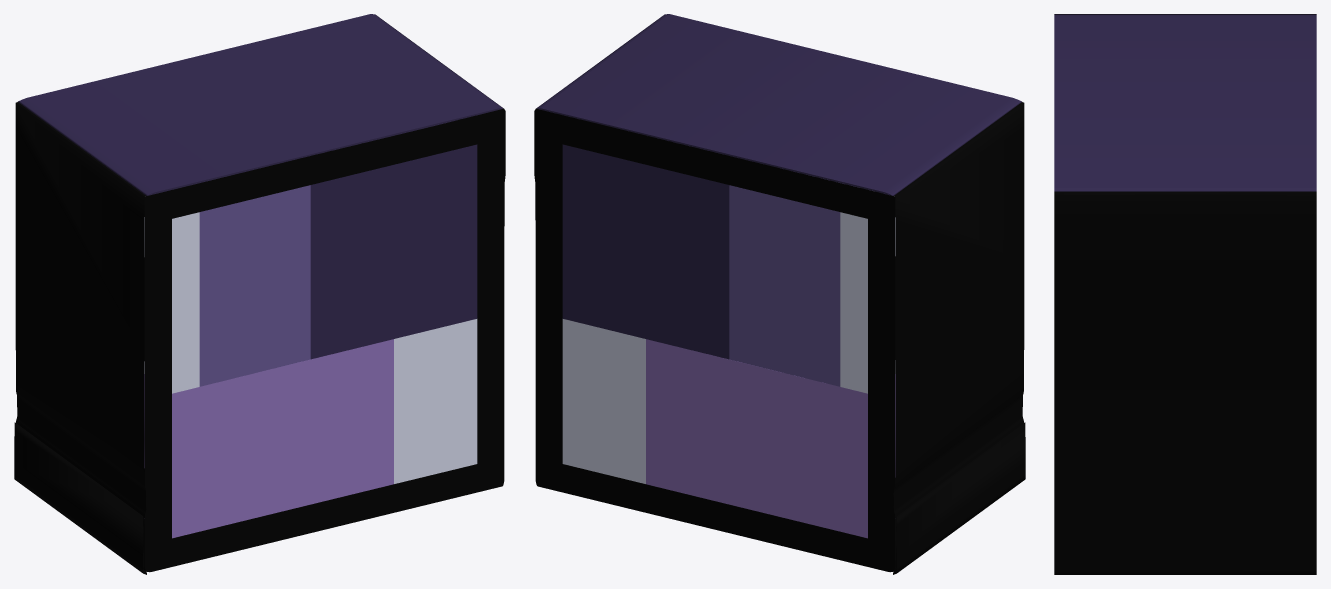
The model's file is Toadz_491.glb.
3 views of the same model, side by side, from view 1: azimuth 30°, elevation 25°; view 2: azimuth 150°, elevation 25°; view 3: azimuth 270°, elevation 25° (orthographic).
Parts seen in each view (by area): view 1: Curve; view 2: Curve; view 3: Curve.
Part boxes in pixels (x1,y1,x2,y2): Curve: [14, 14, 505, 574]; Curve: [534, 14, 1025, 574]; Curve: [1054, 14, 1316, 574].
Bounding box in the file's own units: 1.63 × 1.63 × 1.
